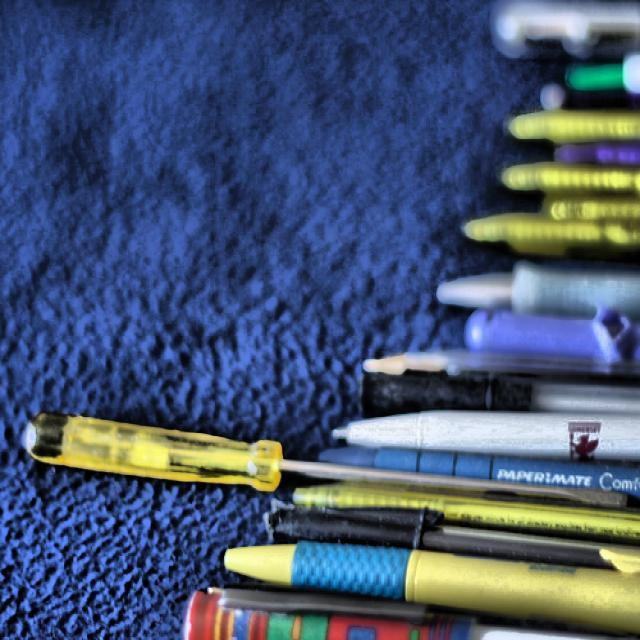screwdriver: (25, 411, 626, 508)
